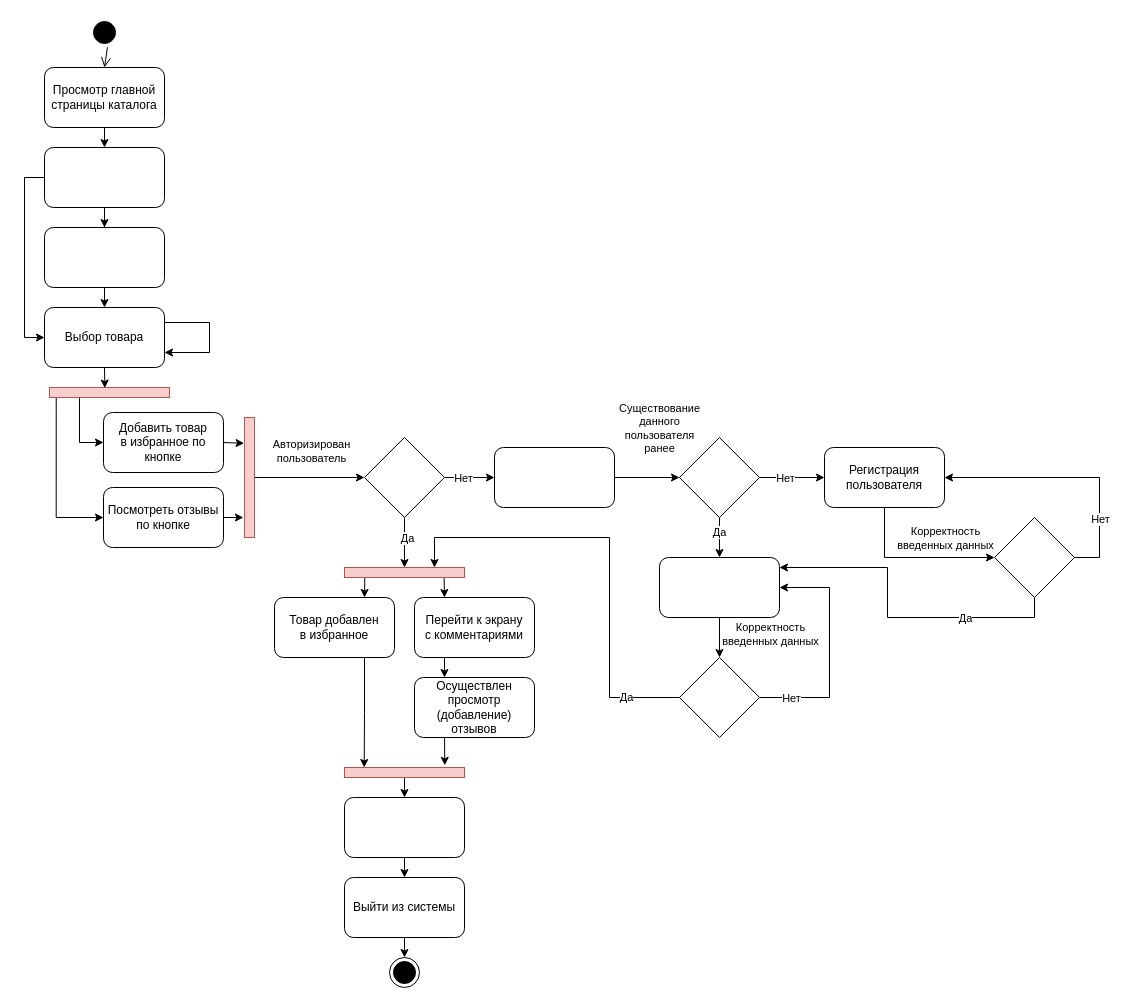
This 1127x1005 diagram has some shape labels left out. Here are the shapes that lost their labels. From the top down, the centre of each, then its label:
At [104,177]: "Переход к каталогу".
At [104,257]: "Переход к категории".
At [554,477]: "Перейти к экрану авторизации".
At [719,587]: "Авторизация пользователя".
At [404,827]: "Перейти в личный кабинет".
